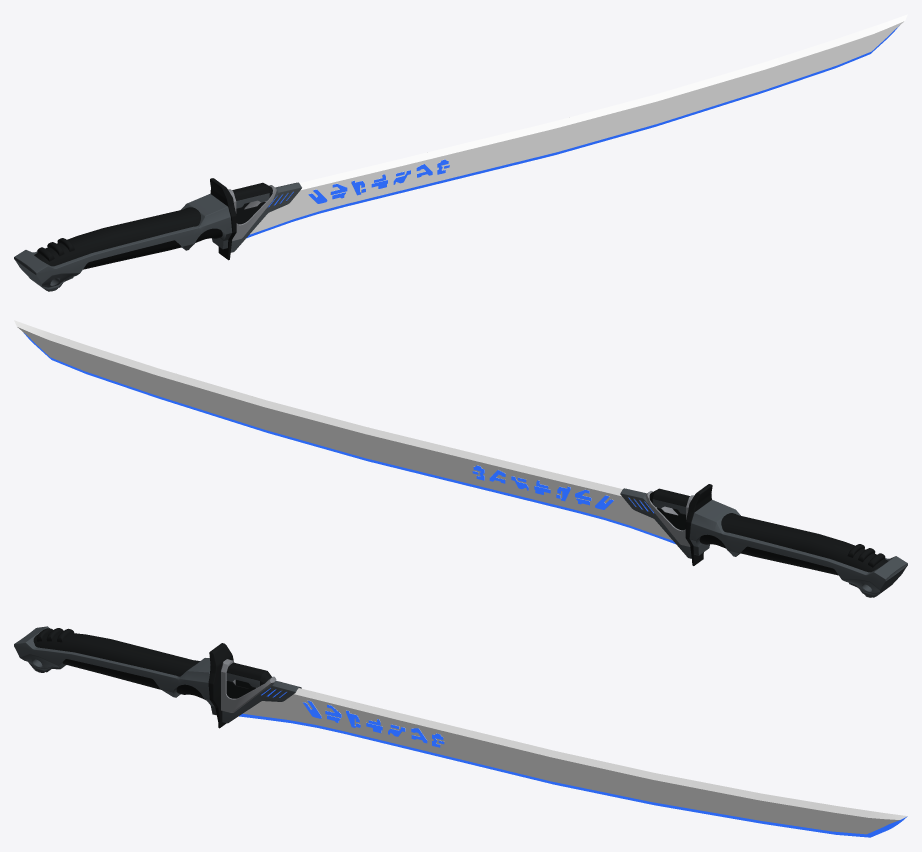
File: katana.glb
3 renders of one model, top to bottom at view 1: azimuth 30°, elevation 25°; view 2: azimuth 150°, elevation 25°; view 3: azimuth 330°, elevation 25°, orthographic.
Visible parts, largest first — view 1: katana; view 2: katana; view 3: katana.
Boxes of the visible parts, x1,y1,x2,y2 form: katana: [14, 14, 907, 291]; katana: [14, 320, 907, 597]; katana: [14, 626, 907, 837].
Bounding box in the file's own units: 8.79 × 0.722 × 0.3957.
